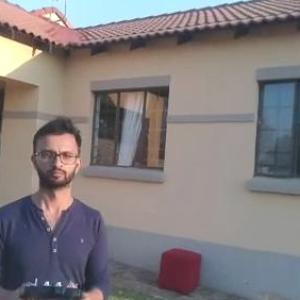follow: (0, 102, 120, 299)
null: (241, 273, 299, 299)
